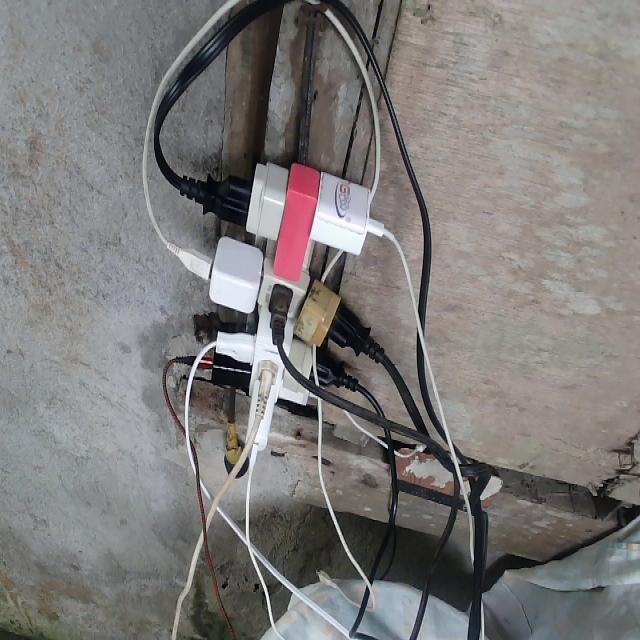-: (109, 54, 420, 458)
